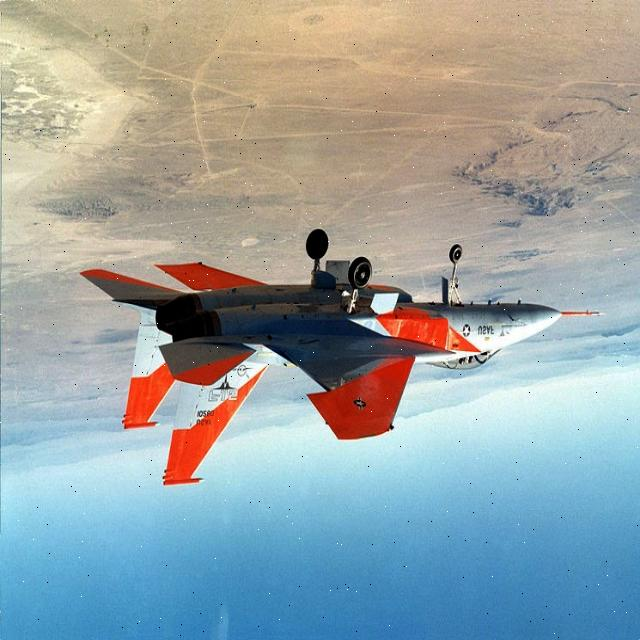F15: (69, 223, 624, 558)
